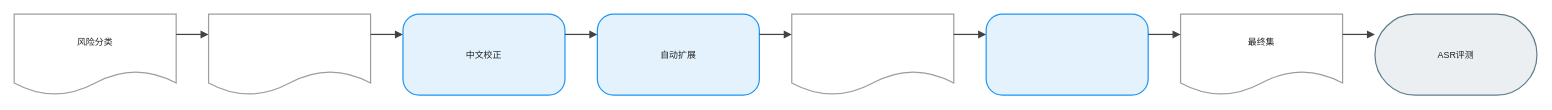
Image size: 1552x110. Some labels were removed from this diagram. Here are the shapes that lost their labels. From the top down, the box of each, then its label:
(208, 13, 371, 95): 种子数据
(791, 13, 954, 95): 越狱模板
(985, 13, 1148, 95): 提示评分
